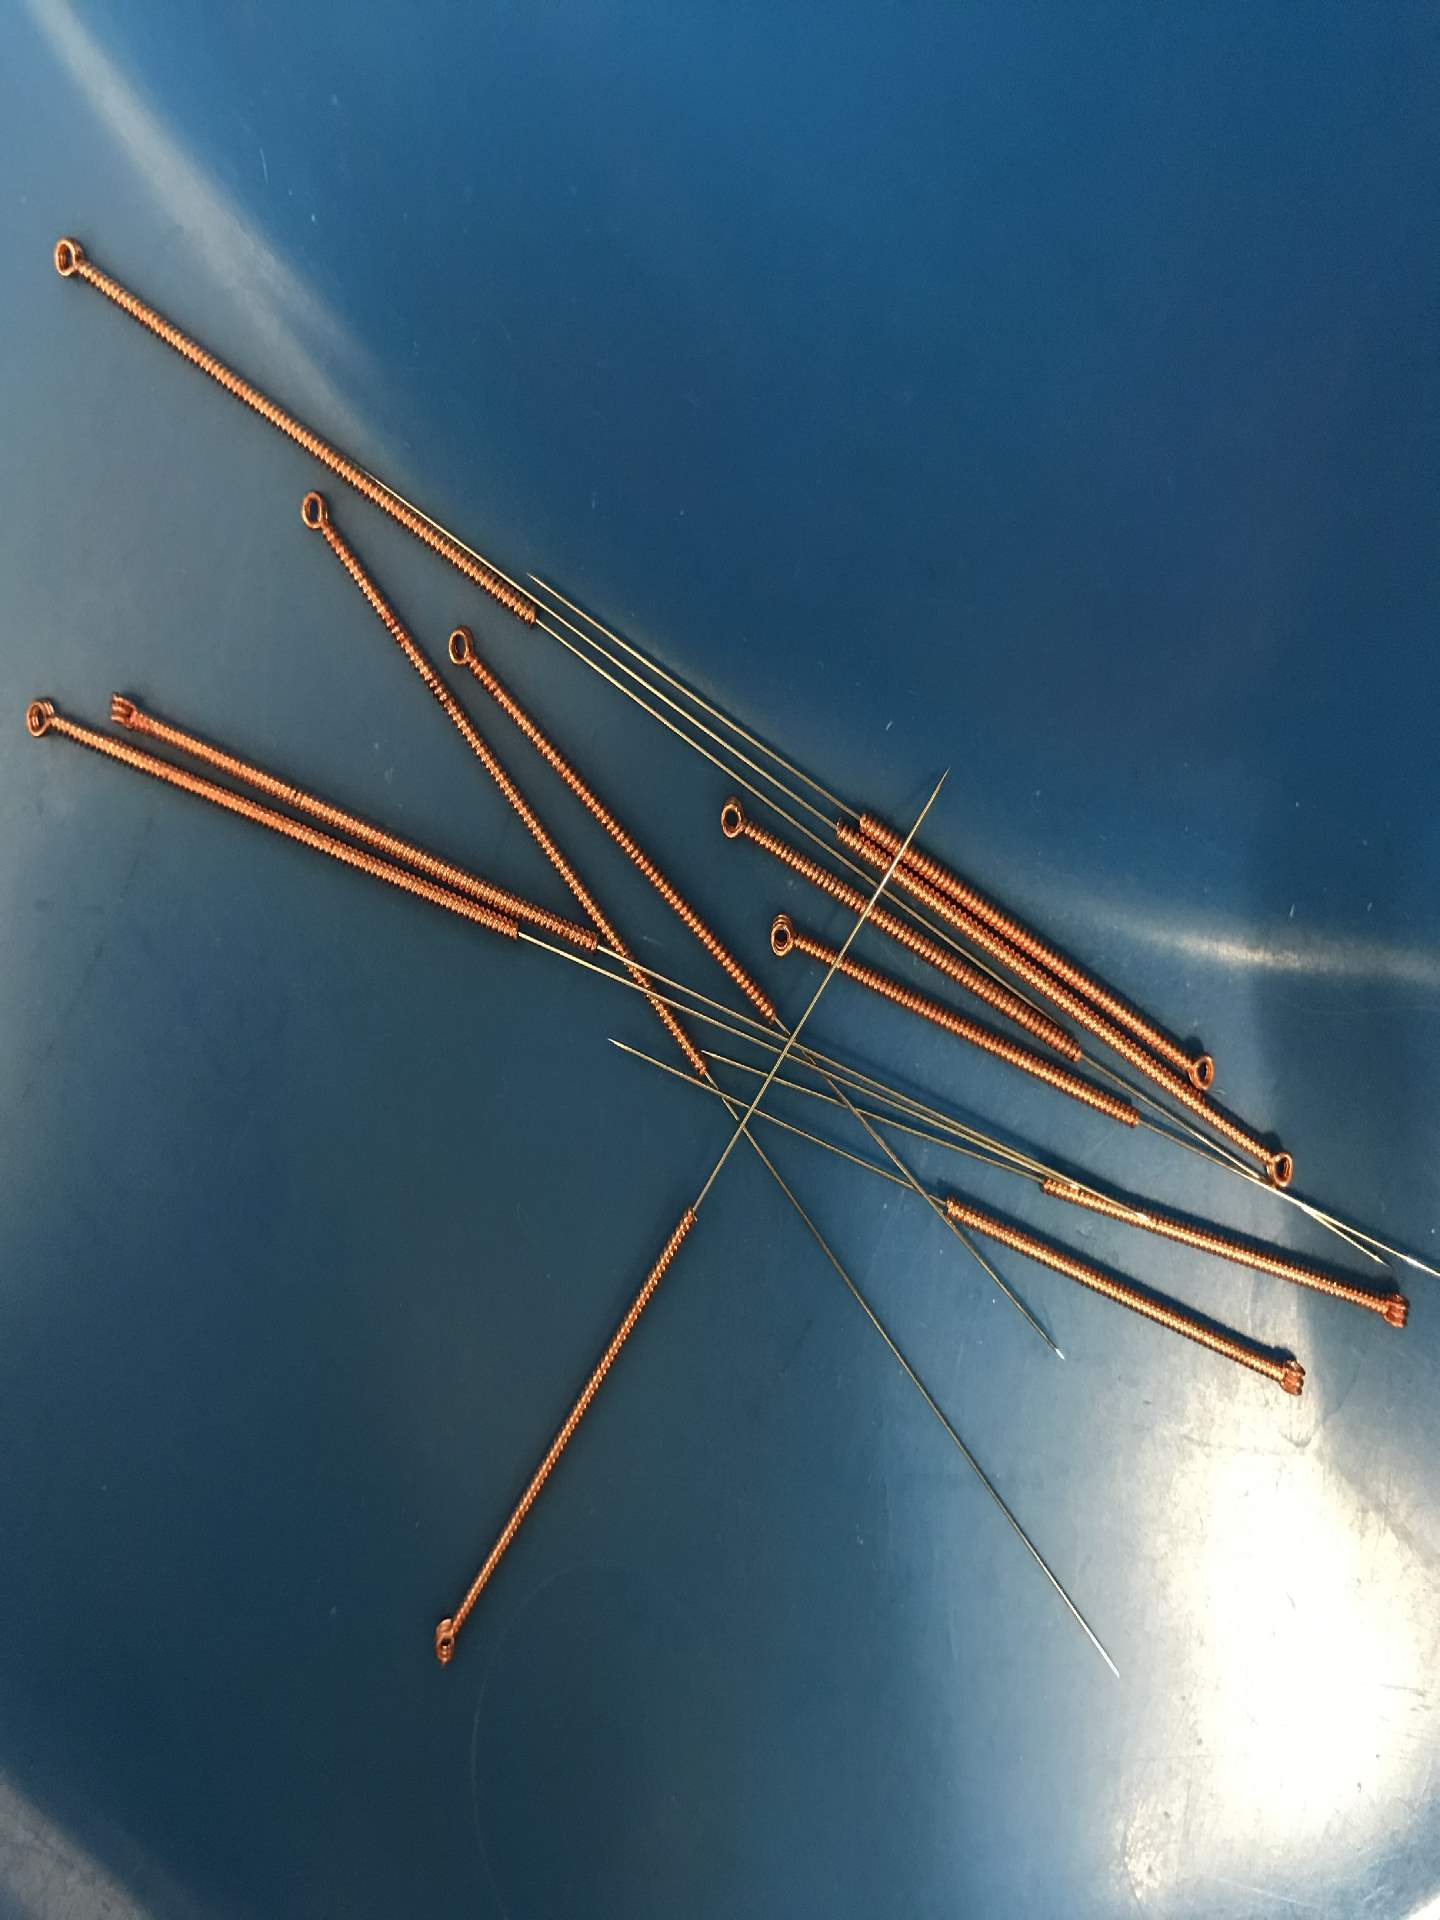needle: (38, 224, 101, 290), (286, 478, 342, 547), (15, 686, 73, 751), (421, 1603, 470, 1675), (98, 677, 153, 739), (758, 906, 811, 969), (1262, 1347, 1314, 1411), (706, 791, 756, 851), (1252, 1137, 1302, 1197), (442, 615, 486, 679), (1370, 1282, 1417, 1339), (1181, 1045, 1219, 1096)
